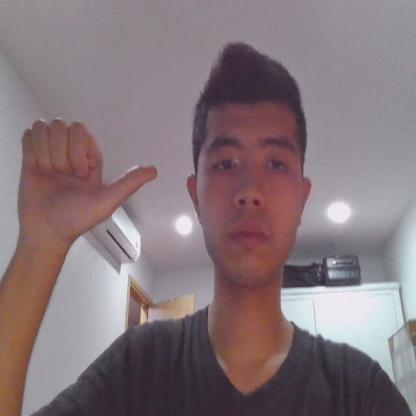left: (18, 117, 158, 241)
